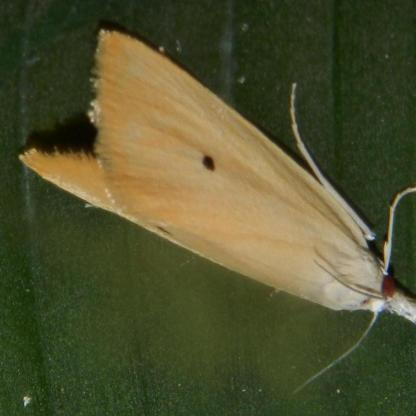stem-borer: (16, 23, 416, 360)
